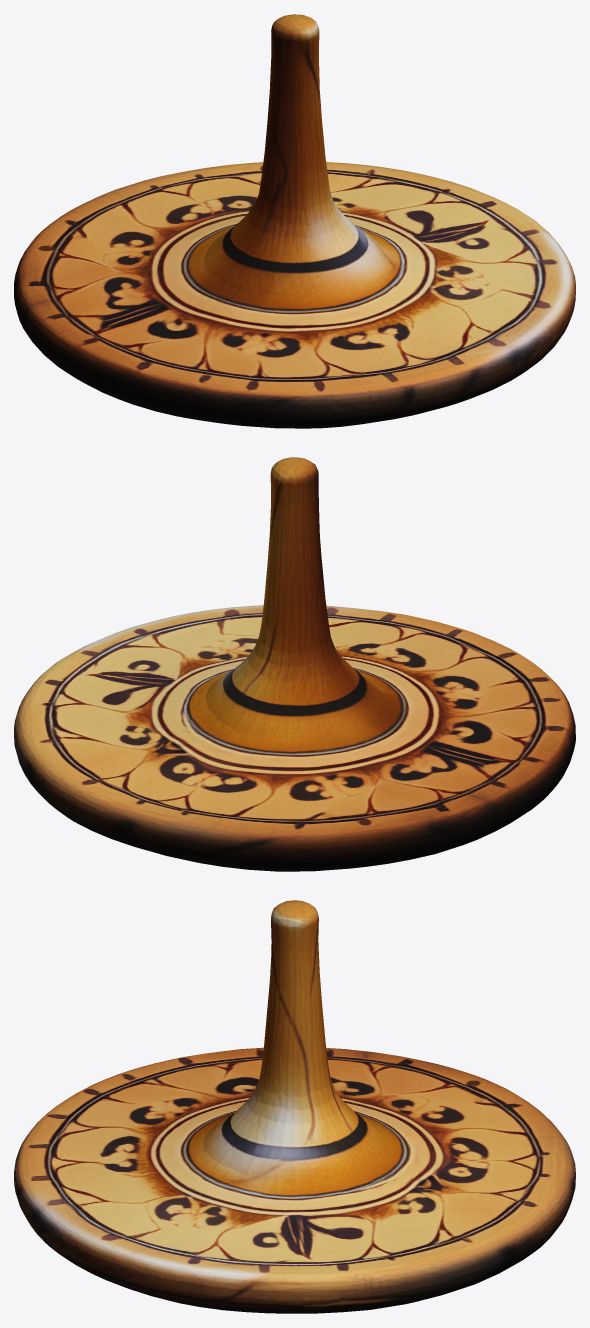
Rendered from wooden-spinning-top-rustic.jpeg.glb.
3 views of the same model, one above another, from view 1: azimuth 30°, elevation 25°; view 2: azimuth 150°, elevation 25°; view 3: azimuth 270°, elevation 25° (orthographic).
Parts seen in each view (by area): view 1: world; view 2: world; view 3: world.
Part boxes in pixels (box(x1,y1,x2,y2)): world: box(14, 14, 575, 428); world: box(14, 457, 575, 871); world: box(14, 900, 575, 1313).
Bounding box in the file's own units: 0.9994 × 0.6128 × 0.9995.
1 material, 1 textured.
